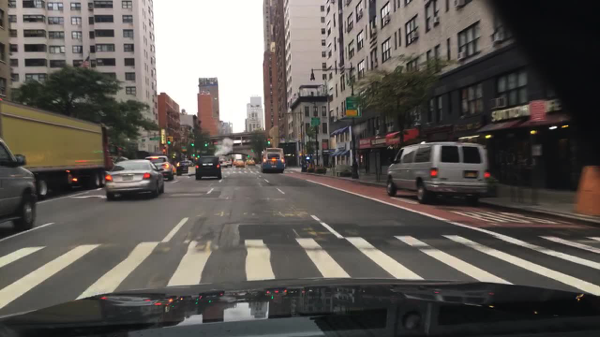bus: (259, 147, 286, 174)
car: (385, 140, 491, 204), (0, 138, 39, 233), (104, 158, 165, 201), (145, 156, 175, 181), (195, 155, 222, 181), (176, 161, 197, 176), (235, 159, 245, 169), (219, 159, 228, 169), (247, 159, 257, 167), (171, 164, 178, 175), (226, 158, 233, 168), (233, 159, 239, 166), (244, 158, 249, 165)
person: (328, 160, 332, 172)
traffic light: (166, 136, 171, 145), (169, 137, 175, 143), (266, 138, 271, 145), (163, 148, 167, 155), (204, 141, 208, 147), (250, 148, 254, 154), (191, 140, 194, 147), (196, 154, 200, 159), (192, 154, 196, 159)
traffic sign: (345, 97, 363, 118), (530, 100, 545, 121), (311, 118, 320, 125), (149, 138, 161, 141)
truck: (0, 98, 130, 200)
